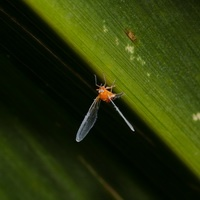insect: (76, 75, 134, 141)
